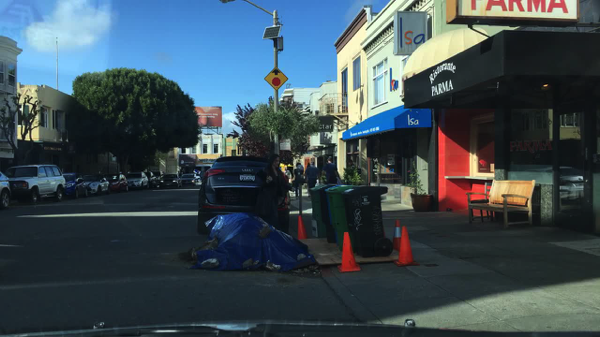car: (196, 155, 291, 232), (4, 164, 66, 204), (62, 172, 88, 199), (83, 175, 110, 194), (104, 173, 128, 192), (0, 172, 12, 208), (127, 172, 148, 189), (160, 173, 181, 189), (182, 173, 201, 186), (146, 173, 157, 187), (153, 170, 164, 180)
person: (261, 155, 296, 231), (322, 156, 343, 184), (293, 162, 304, 197), (305, 161, 319, 188), (349, 159, 357, 173)
traffic sign: (264, 68, 288, 89)
